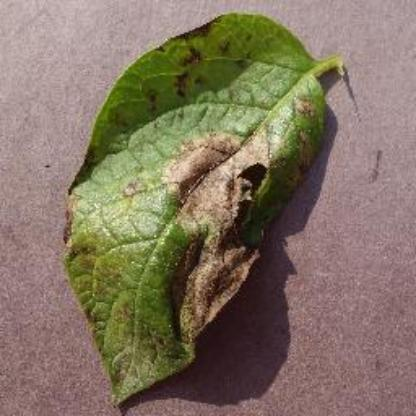Late-Blight: (59, 8, 373, 412)
